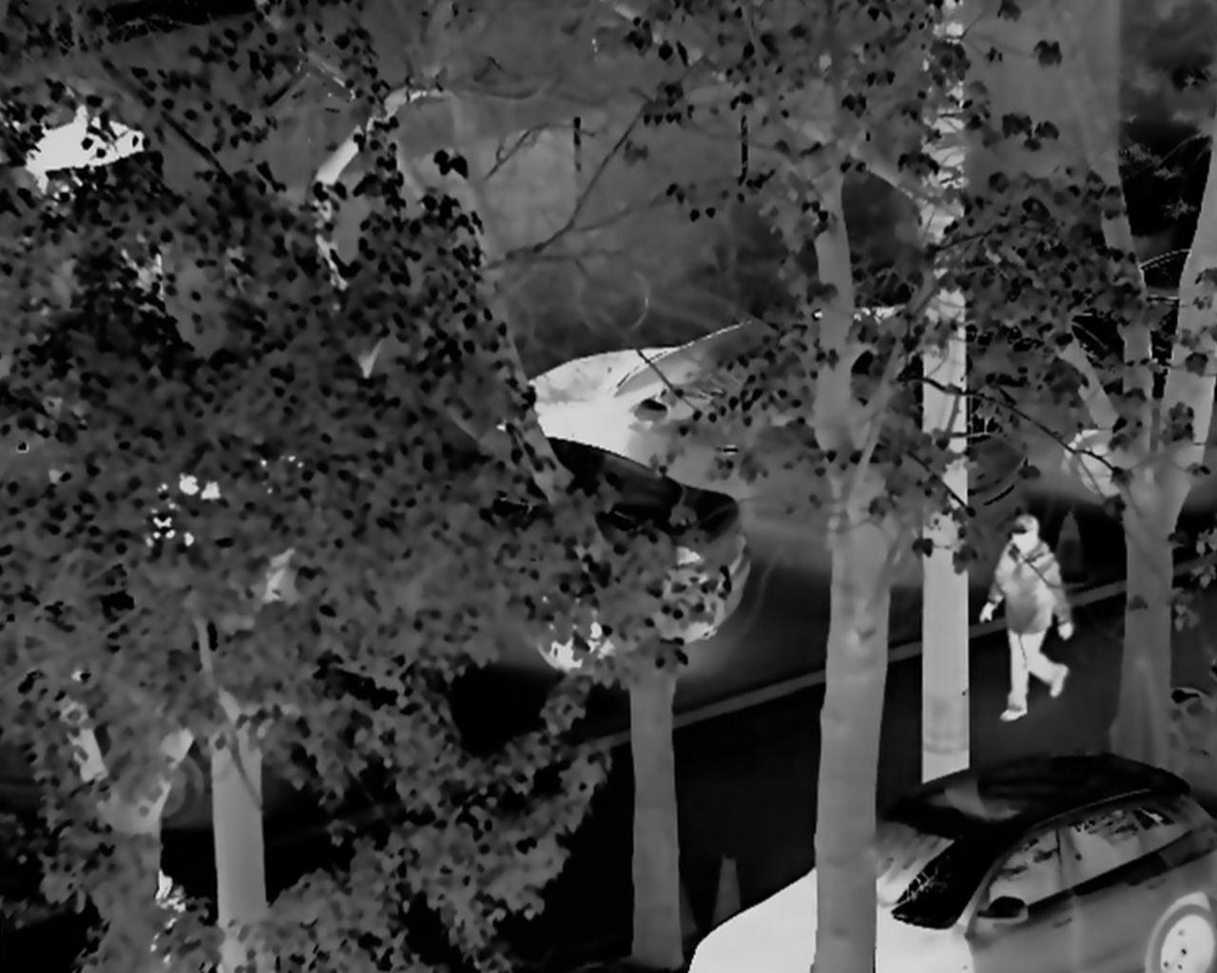person: (981, 516, 1084, 720)
